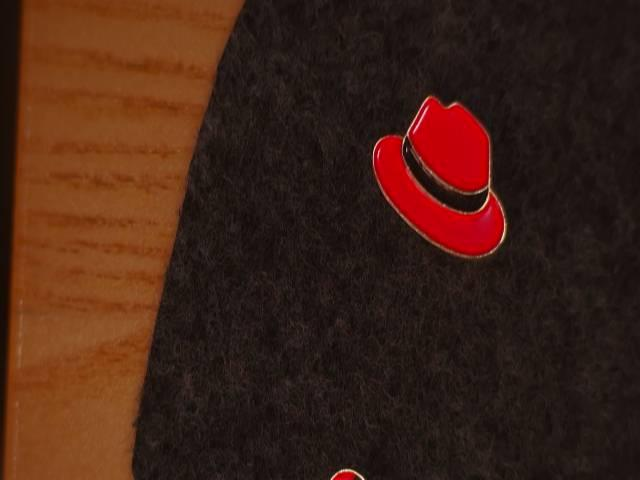Red-Hat: (348, 76, 530, 306)
